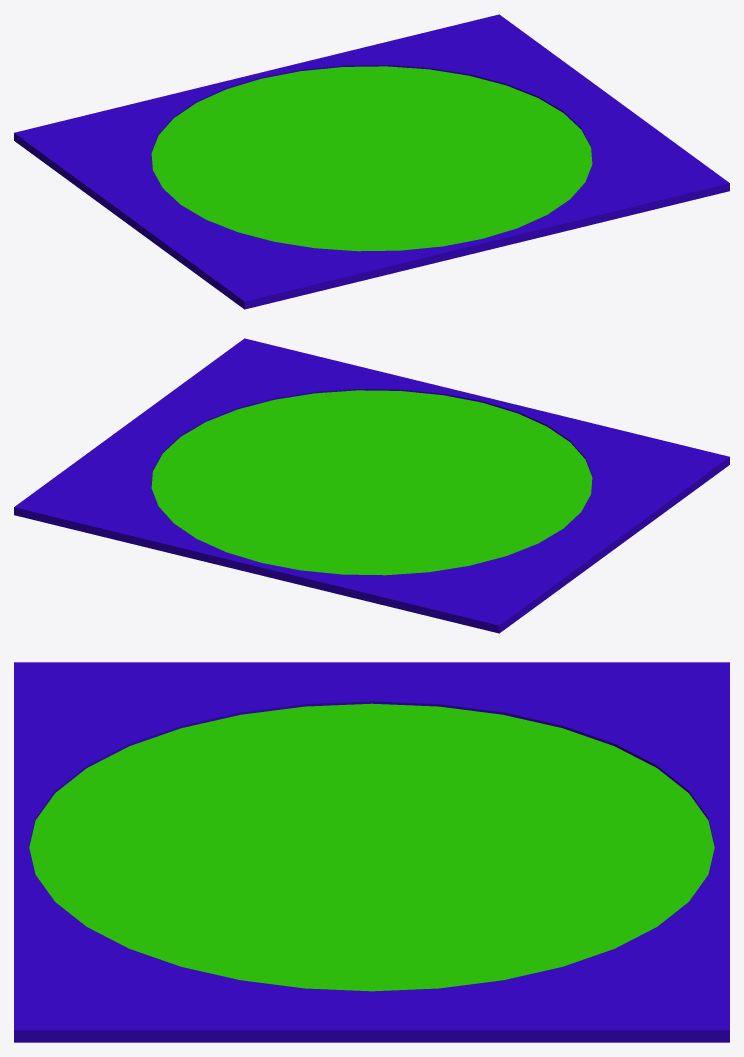
File: PlatformTileBomb.fbx
3 views of the same model, one above another, from view 1: azimuth 30°, elevation 25°; view 2: azimuth 150°, elevation 25°; view 3: azimuth 270°, elevation 25° (orthographic). The views are drawn at different scales.
Visible parts, largest first — view 1: Cylinder, Cube; view 2: Cylinder, Cube; view 3: Cylinder, Cube.
Part boxes in pixels (bbox=[...]): Cylinder: bbox=[151, 66, 592, 251]; Cube: bbox=[14, 14, 729, 309]; Cylinder: bbox=[151, 390, 592, 575]; Cube: bbox=[14, 338, 729, 633]; Cylinder: bbox=[29, 703, 714, 991]; Cube: bbox=[14, 662, 729, 1042].
Size of the model in its own units: 661 by 10.36 by 544.
